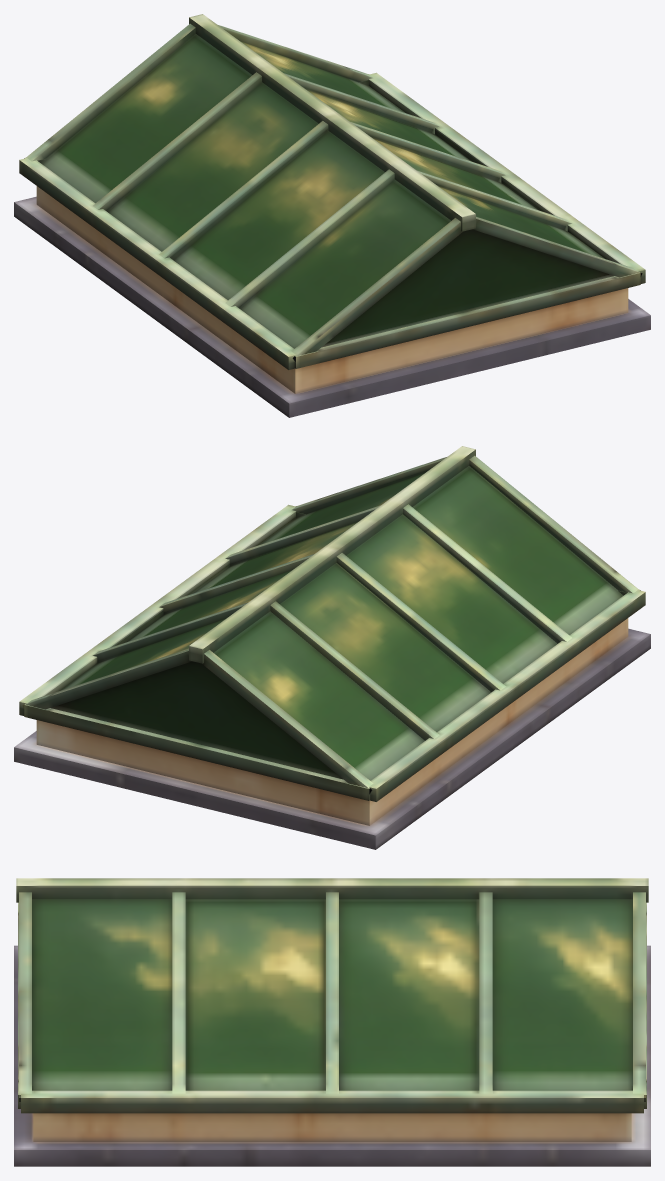
File: RF_Skylight.fbx
3 renders of one model, top to bottom at view 1: azimuth 30°, elevation 25°; view 2: azimuth 150°, elevation 25°; view 3: azimuth 270°, elevation 25°, orthographic. The views are drawn at different scales.
Visible parts, largest first — view 1: RF_Skylight; view 2: RF_Skylight; view 3: RF_Skylight.
Boxes of the visible parts, x1=… form: RF_Skylight: x1=14, y1=14, x2=650, y2=417; RF_Skylight: x1=14, y1=446, x2=650, y2=849; RF_Skylight: x1=14, y1=878, x2=650, y2=1166.
Size of the model in its own units: 3.15 by 4.15 by 1.31.
1 material, 1 textured.
